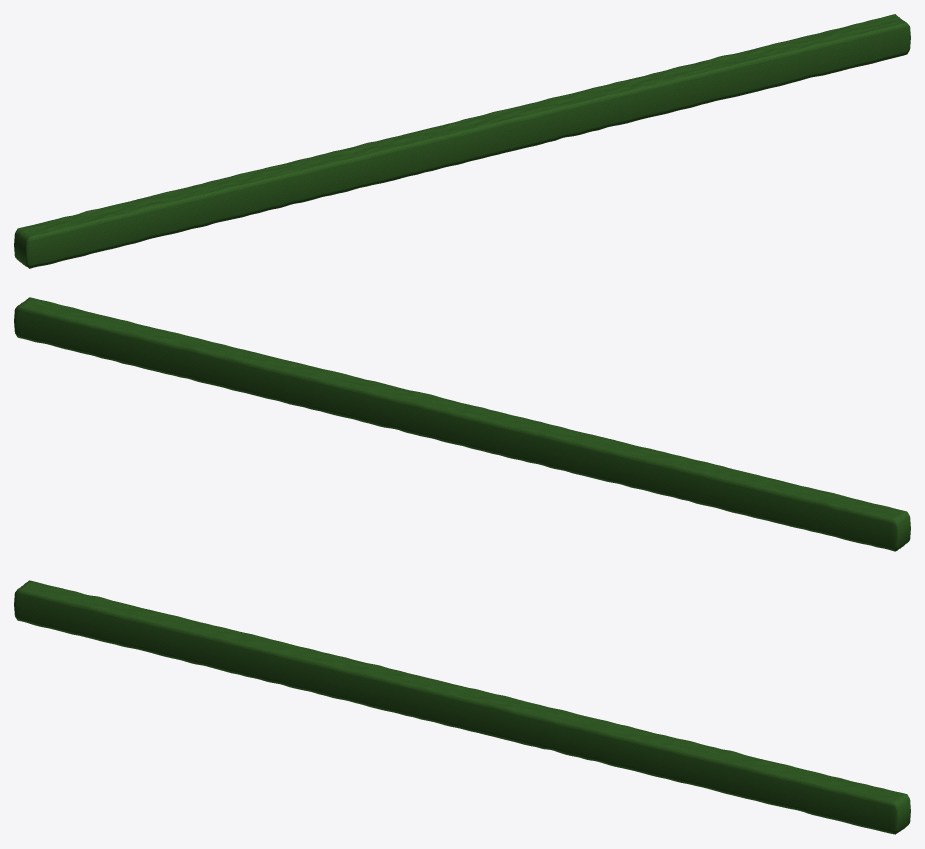
The model's file is Powerplant_Model_Structure_Ground_V2.FBX.
The picture shows the model from 3 angles, top to bottom: view 1: azimuth 30°, elevation 25°; view 2: azimuth 150°, elevation 25°; view 3: azimuth 330°, elevation 25°; orthographic projection.
Parts seen in each view (by area): view 1: Box061; view 2: Box061; view 3: Box061.
Part boxes in pixels (x1,y1,x2,y2): Box061: (14, 14, 910, 268); Box061: (14, 297, 910, 551); Box061: (14, 580, 910, 834).
Bounding box in the file's own units: 40423 × 1447 × 1060.
